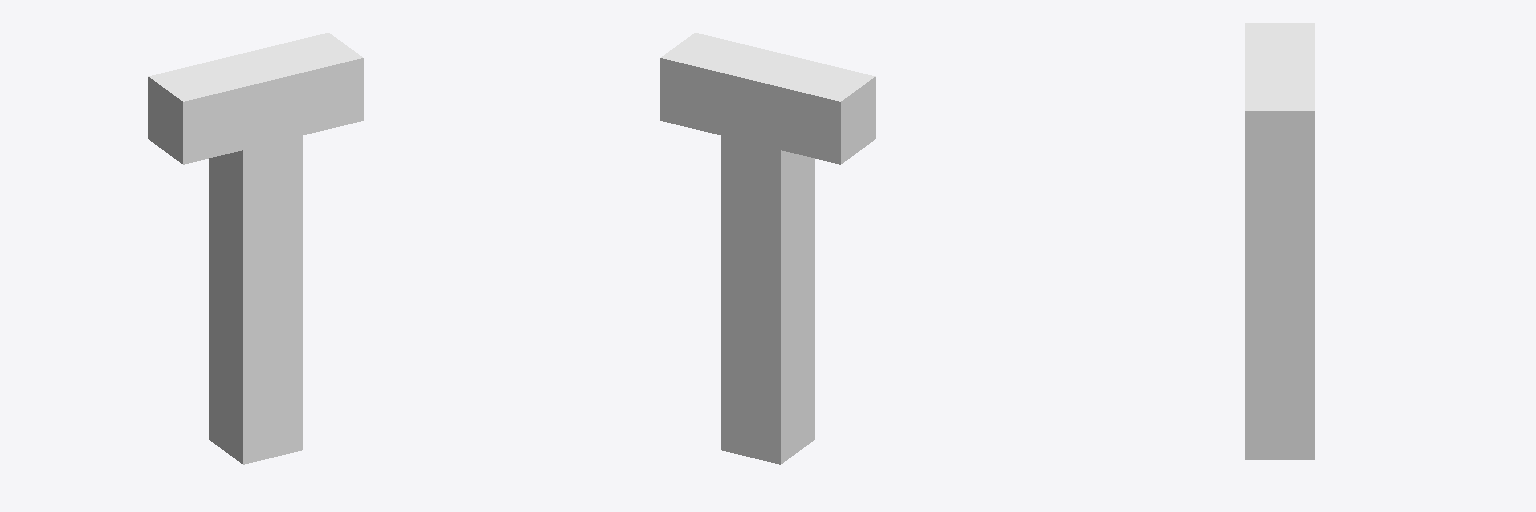
Rendered from lever-0.obj.
The picture shows the model from 3 angles: view 1: azimuth 30°, elevation 25°; view 2: azimuth 150°, elevation 25°; view 3: azimuth 270°, elevation 25°; orthographic projection.
Visible parts, largest first — view 1: object 1; view 2: object 1; view 3: object 1.
Boxes of the visible parts, box(x1,y1,x2,y2) form: object 1: box(148, 33, 363, 464); object 1: box(660, 33, 875, 464); object 1: box(1245, 23, 1314, 459).
Bounding box in the file's own units: 0.3 × 0.6 × 0.1.